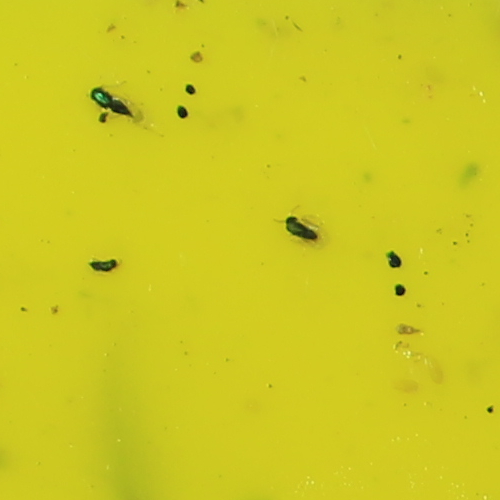wasp: (84, 82, 134, 119), (280, 213, 317, 248)
